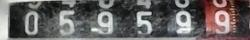digits: (132, 9, 160, 36), (172, 8, 196, 38), (93, 10, 117, 37), (214, 10, 231, 33), (59, 10, 75, 34), (24, 10, 38, 34)
